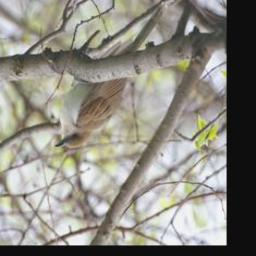Cuckoo: (53, 0, 169, 149)
